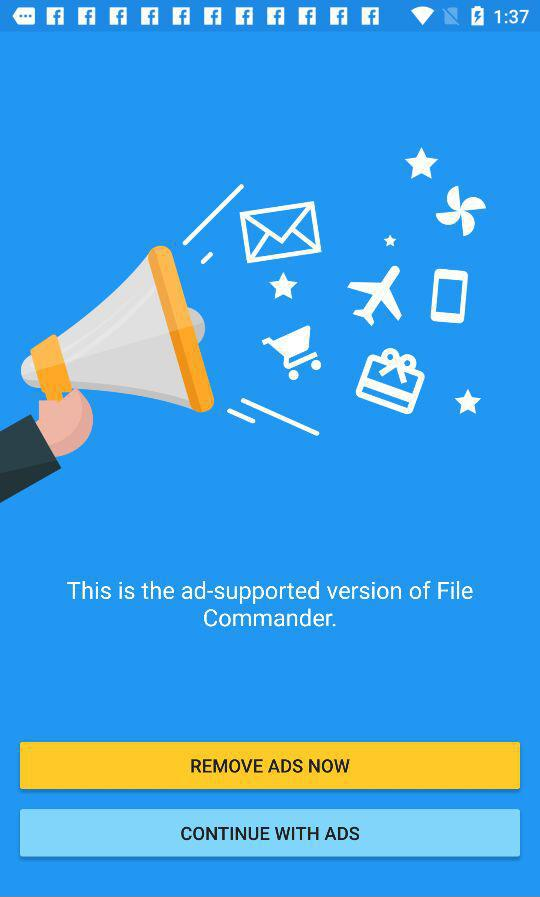Image: (1, 147, 487, 504)
Text: (67, 580, 474, 628)
TextButton: (20, 808, 520, 857), (21, 742, 521, 790)
UpperTaskBar: (1, 1, 540, 33)
